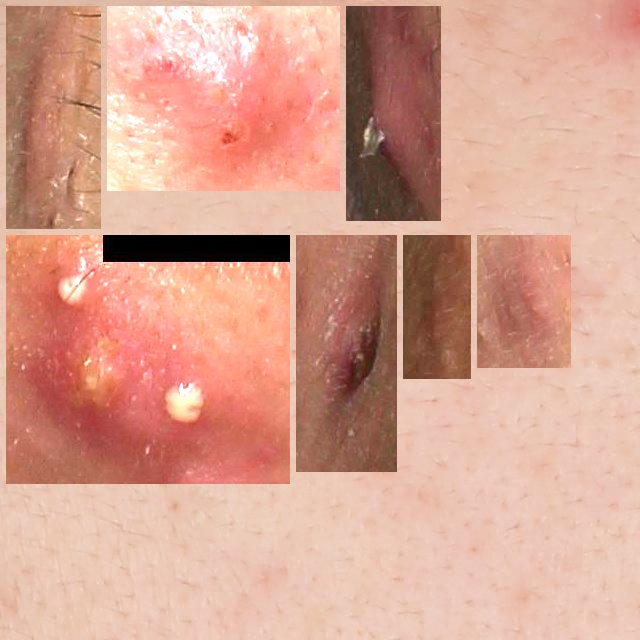nodule: (14, 243, 282, 476), (115, 14, 332, 183), (304, 243, 389, 464), (14, 14, 93, 221), (354, 14, 433, 213), (485, 243, 563, 360), (411, 243, 463, 371)
